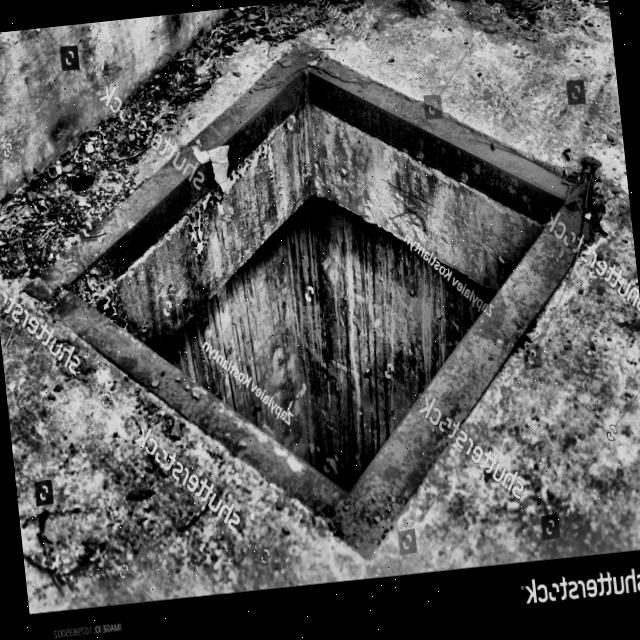pothole: (0, 2, 640, 573)
